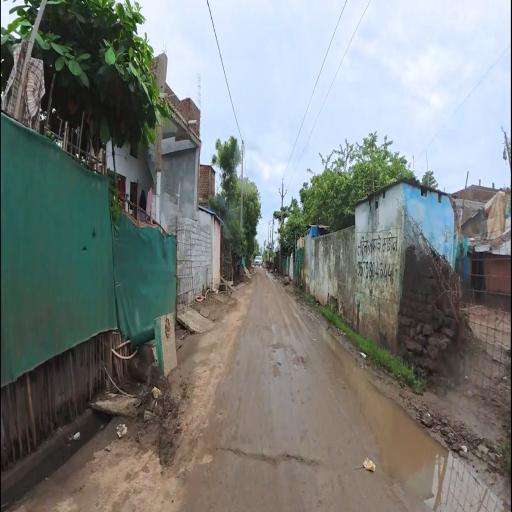longitudinal_crack: (200, 403, 357, 495)
